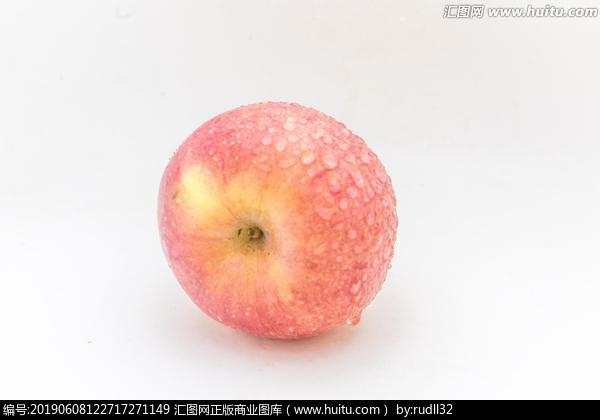apple: (156, 99, 397, 338)
